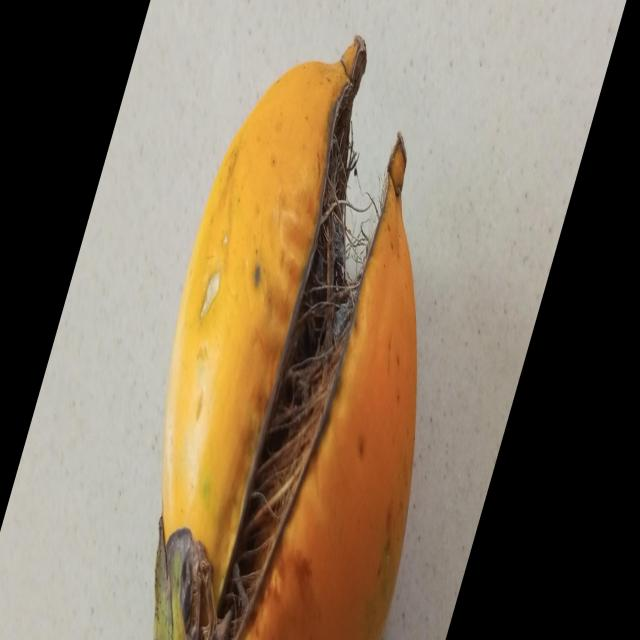damaged: (153, 37, 415, 640)
